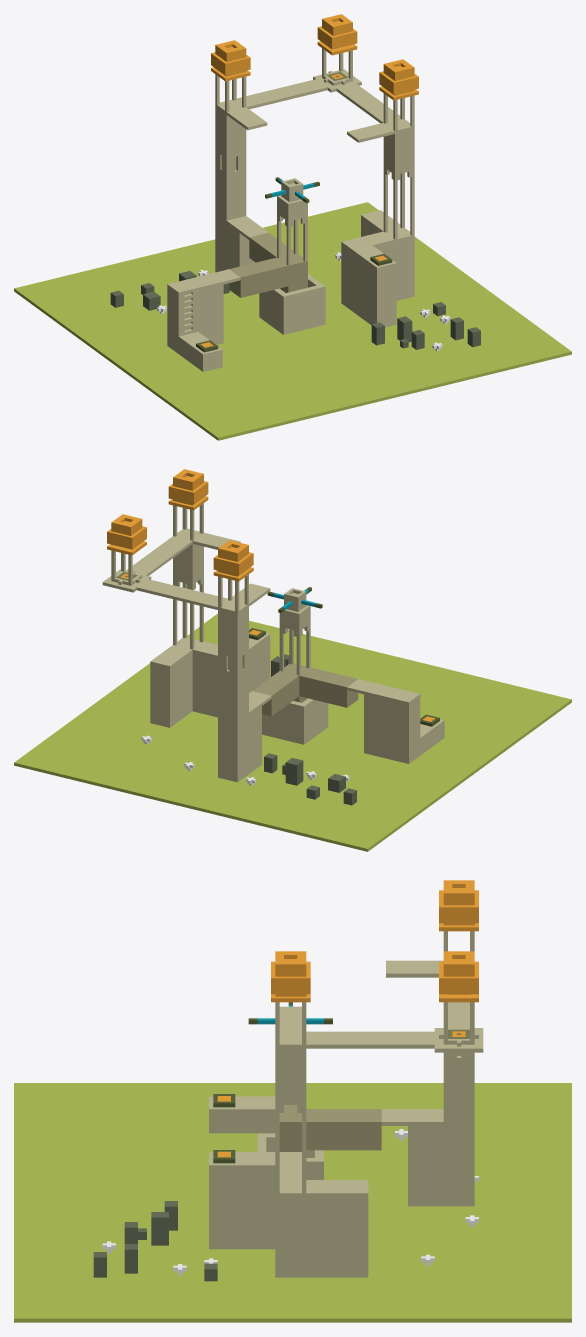
The model's file is monu9.obj.
3 views of the same model, one above another, from view 1: azimuth 30°, elevation 25°; view 2: azimuth 150°, elevation 25°; view 3: azimuth 270°, elevation 25° (orthographic). The views are drawn at different scales.
Size of the model in its own units: 126 by 79 by 126.
Materials: 1 (1 with a texture image).
